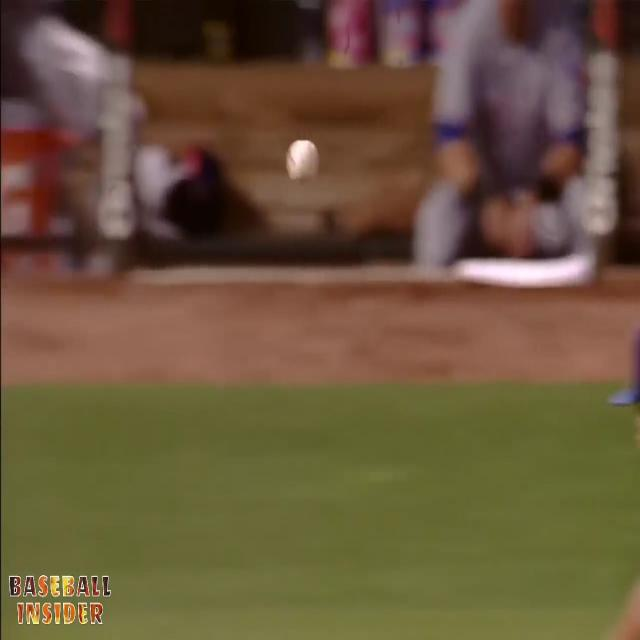baseball: (287, 137, 316, 182)
